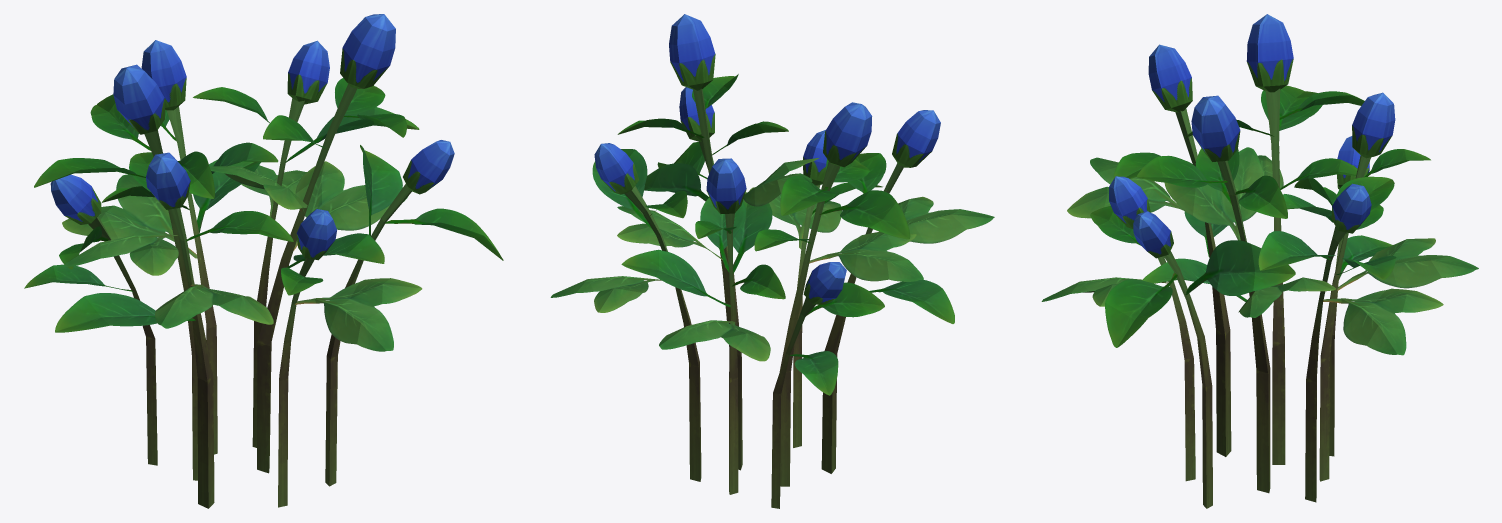
Rendered from P_FlowerAiqianniu_02.obj.
3 renders of one model, left to right at view 1: azimuth 30°, elevation 25°; view 2: azimuth 150°, elevation 25°; view 3: azimuth 270°, elevation 25°, orthographic. The views are drawn at different scales.
Bounding box in the file's own units: 0.7342 × 0.7956 × 0.7573.
Materials: 1 (1 with a texture image).
